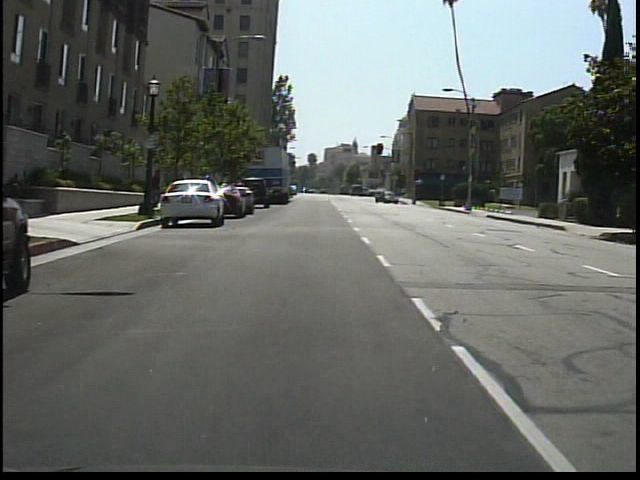person: (147, 166, 166, 212)
